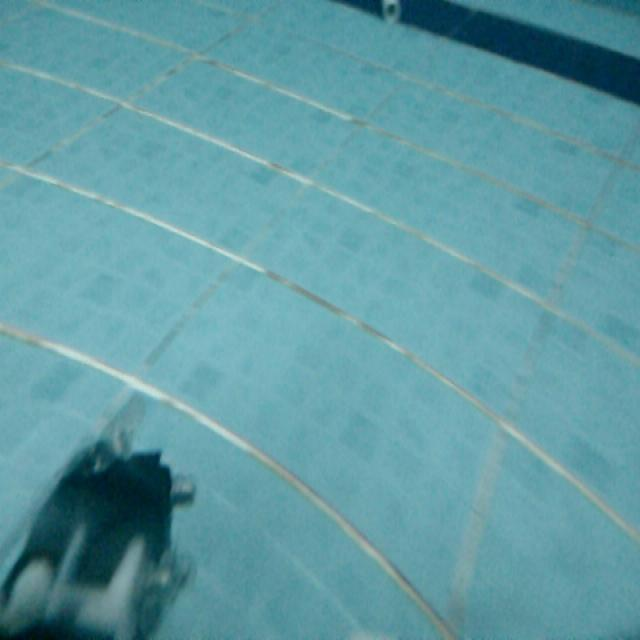Cube: (378, 0, 402, 27)
